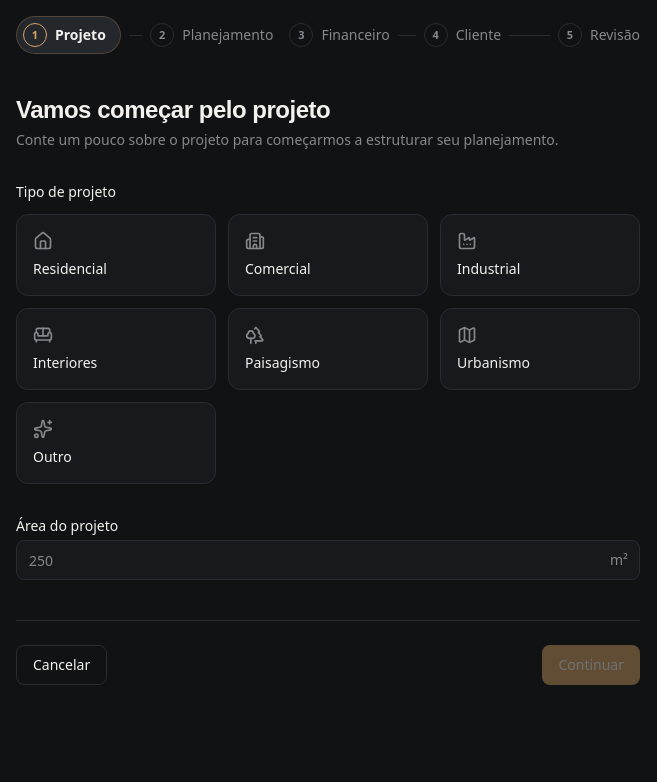
Test: CreateProjectPage › lets the user jump back to a previously completed step via the stepper
Click the button "Comercial": {"x": 328, "y": 255} [228,214,428,296]
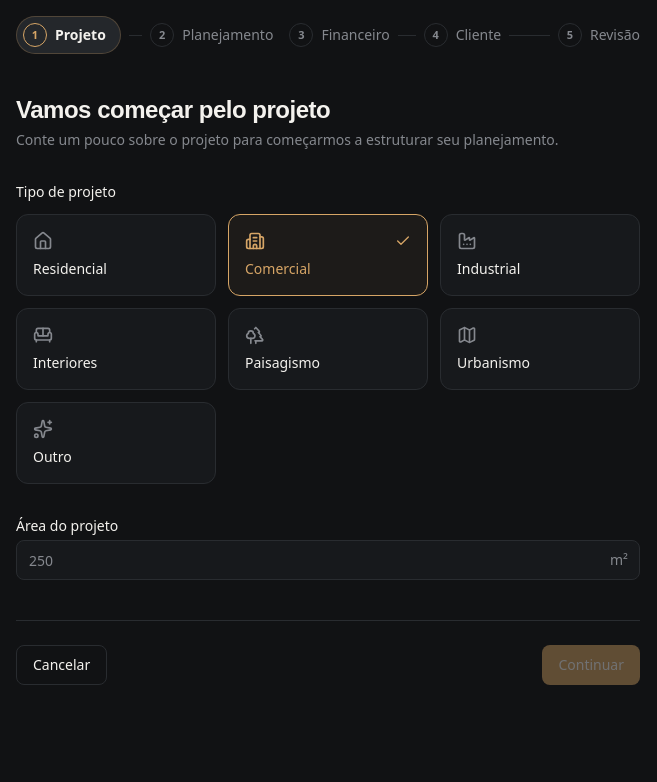
In the number field labelled "Área do projeto": {"x": 328, "y": 560} [16,540,640,580], type "120"
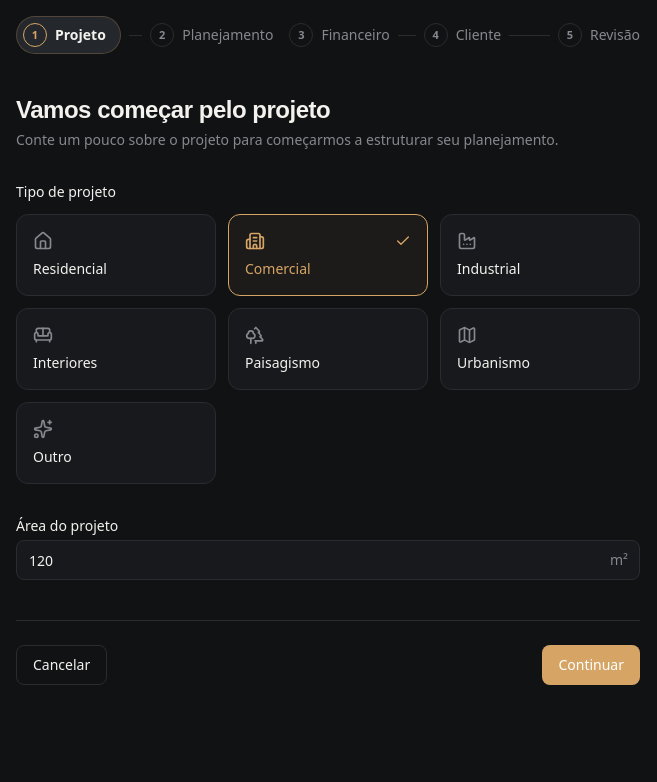
Check: the button "Continuar" is enabled
Click the button "Continuar": {"x": 591, "y": 665} [542,645,640,685]
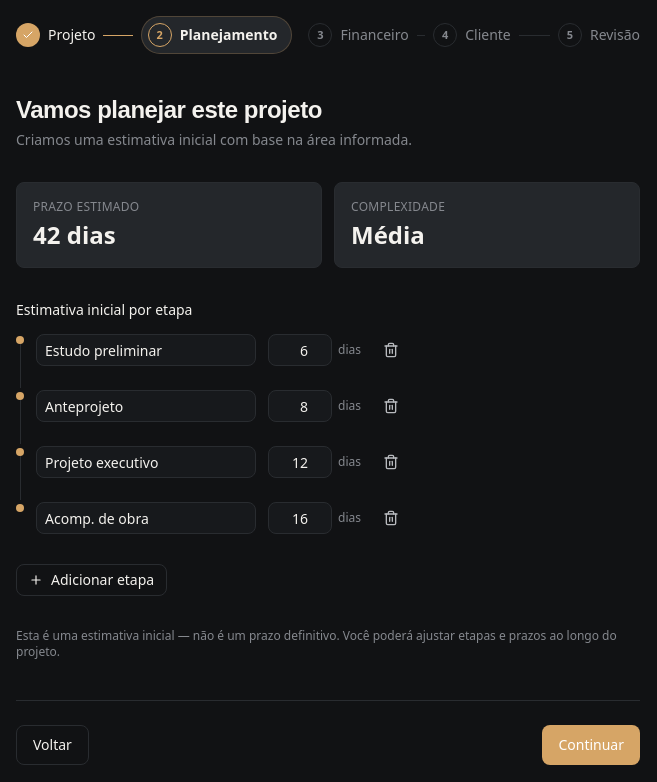
Check: the heading "Vamos planejar este projeto" is shown, box [16,96,322,123]
Click the button "Projeto": {"x": 56, "y": 35} [16,19,96,51]
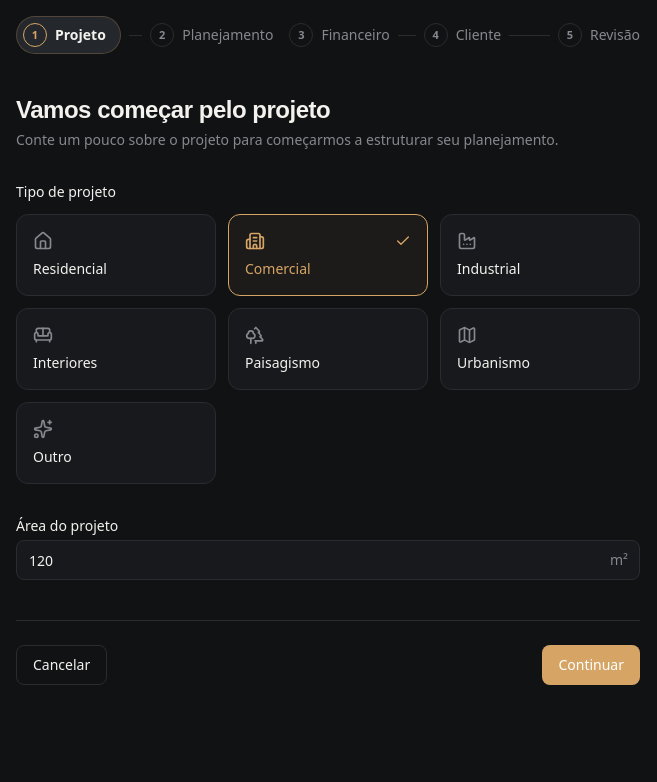
Check: the heading "Vamos começar pelo projeto" is shown, box [16,96,330,123]
Check: the number field showing "120" is shown, box [16,540,640,580]
